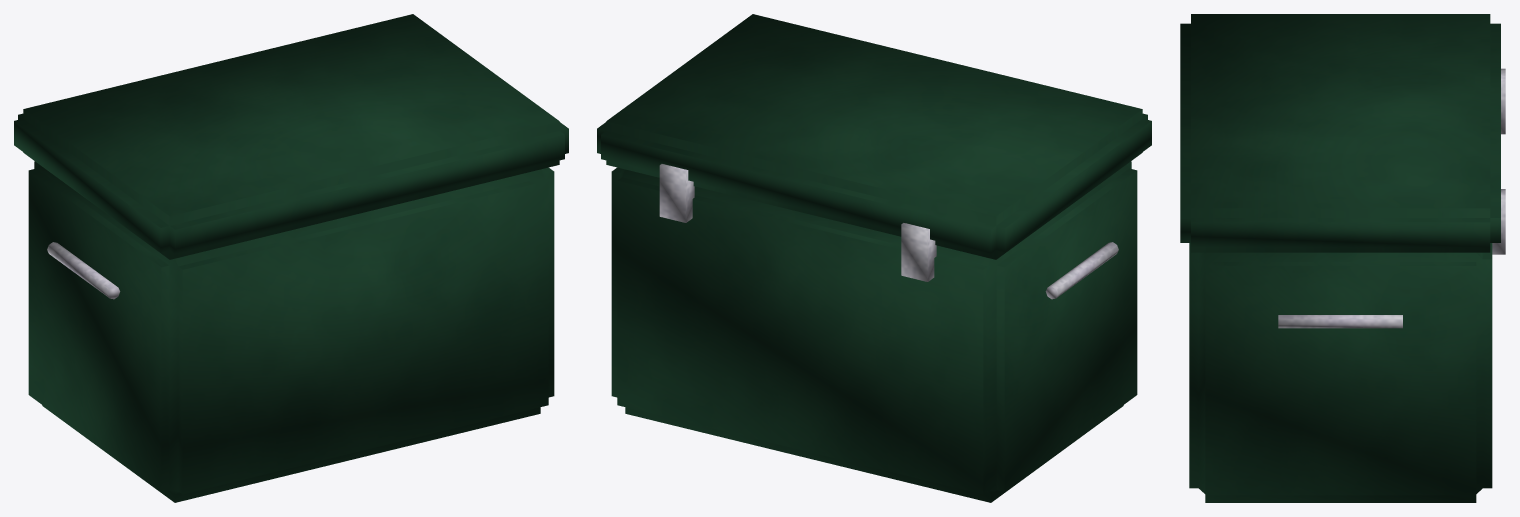
Rendered from cooler_box.glb.
The picture shows the model from 3 angles, left to right: view 1: azimuth 30°, elevation 25°; view 2: azimuth 150°, elevation 25°; view 3: azimuth 270°, elevation 25°; orthographic projection. The views are drawn at different scales.
Parts seen in each view (by area): view 1: CoolerBody, CoolerHardware; view 2: CoolerBody, CoolerHardware; view 3: CoolerBody, CoolerHardware.
Boxes of the visible parts, bbox=[...] form: CoolerBody: bbox=[14, 14, 568, 502]; CoolerHardware: bbox=[47, 242, 120, 299]; CoolerBody: bbox=[597, 14, 1151, 502]; CoolerHardware: bbox=[659, 164, 1118, 299]; CoolerBody: bbox=[1180, 14, 1500, 502]; CoolerHardware: bbox=[1278, 68, 1505, 328].
Bounding box in the file's own units: 0.566 × 0.3725 × 0.365.
Materials: 2 (2 with a texture image).
